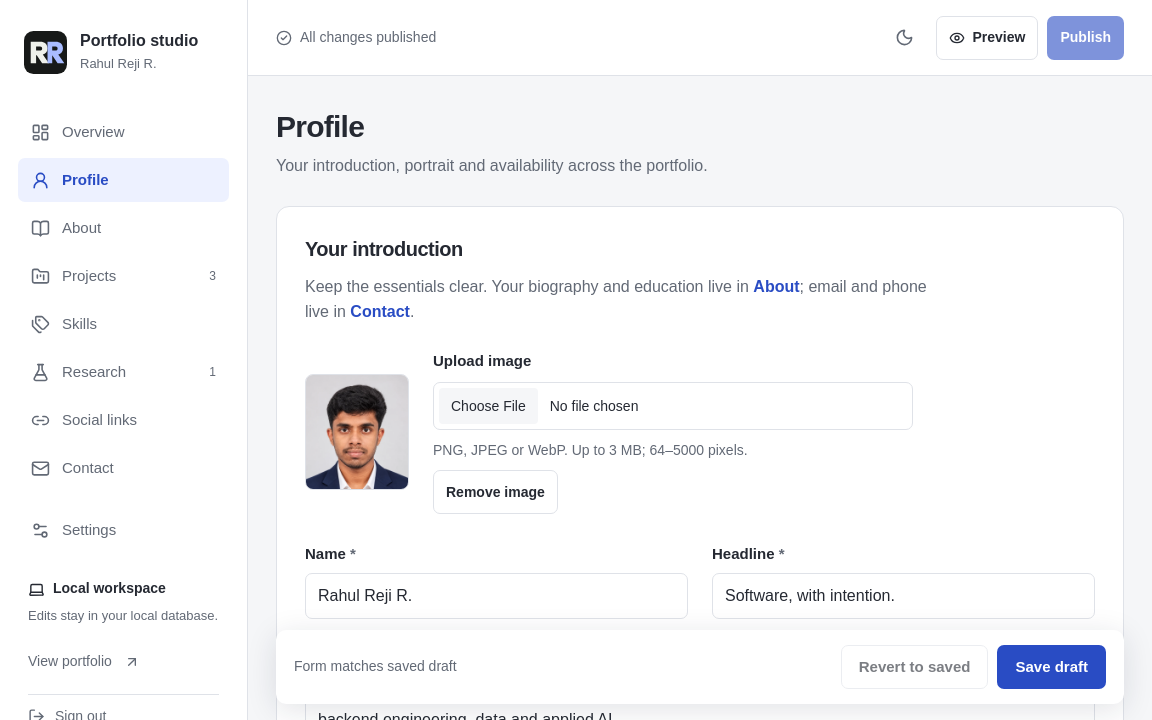
Test: server authenticated workspace › keeps unsaved form text through an expired session and lets the owner sign in again without leaving
The width and height of the screenshot is (1152, 720).
Later steps or results of the test are not shown.
Replace the text in the field labelled "Name" with "Preserve this profile" at (496, 596), box [305,573,688,619]
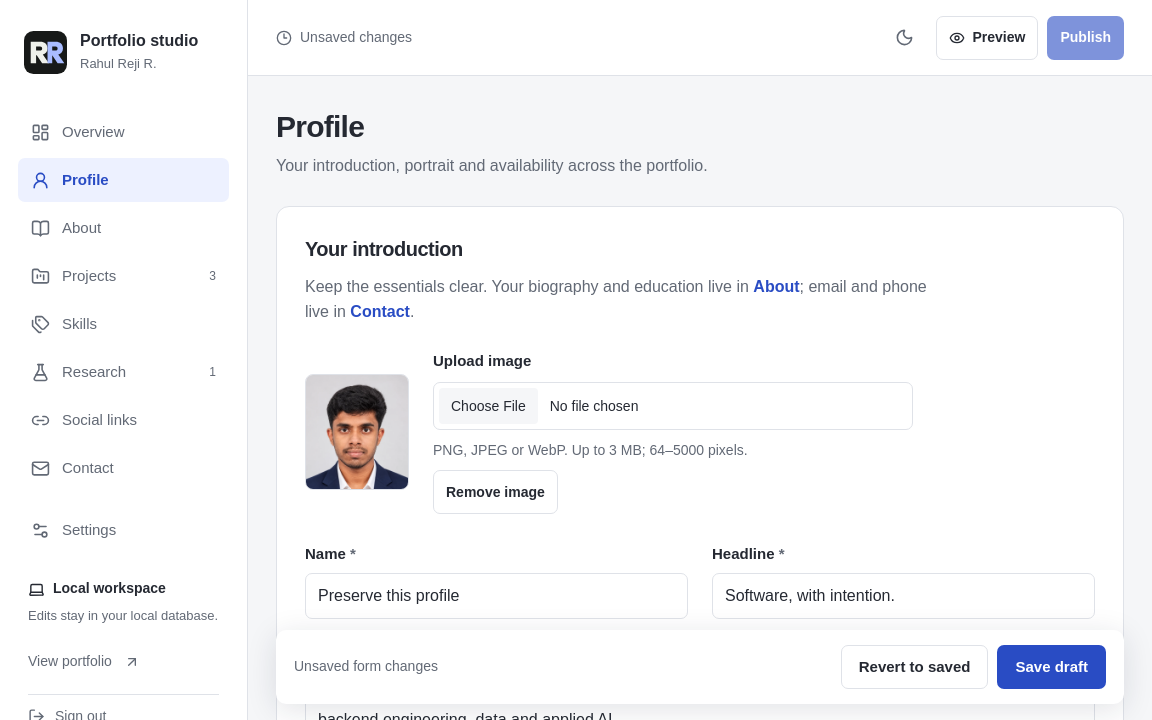
Click the button "Save draft" at (1052, 667), box [998,645,1106,689]
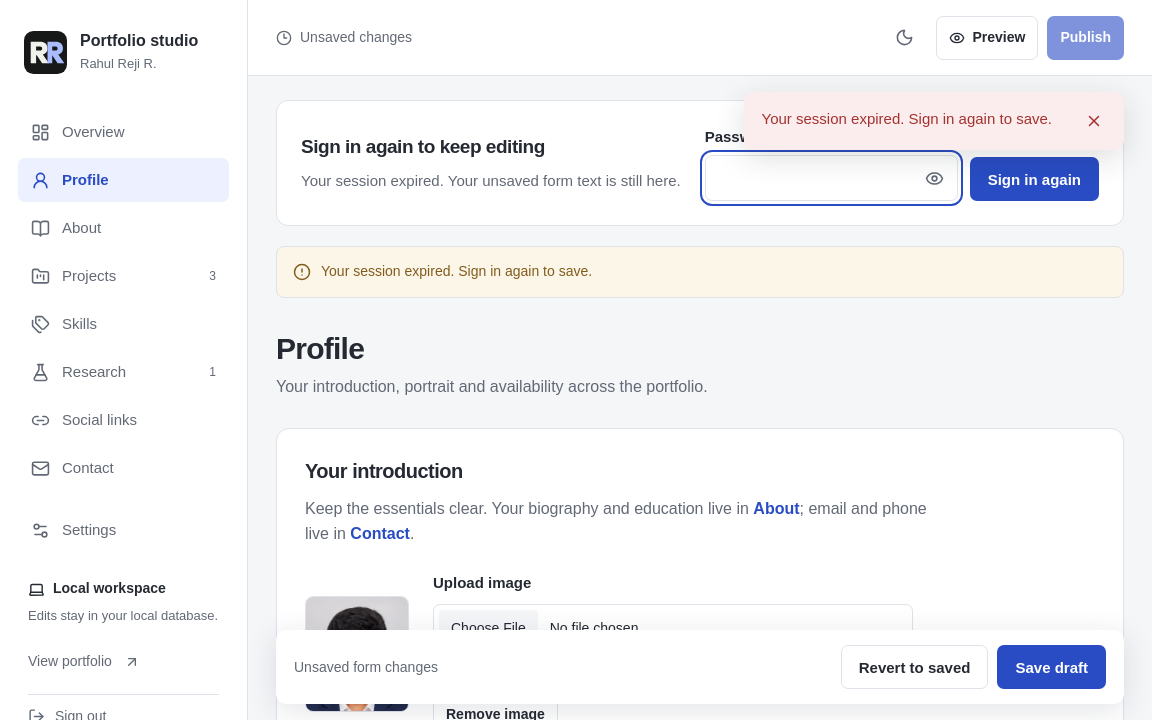
Now the form "Sign in again" is shown, box [705,125,1099,201]
